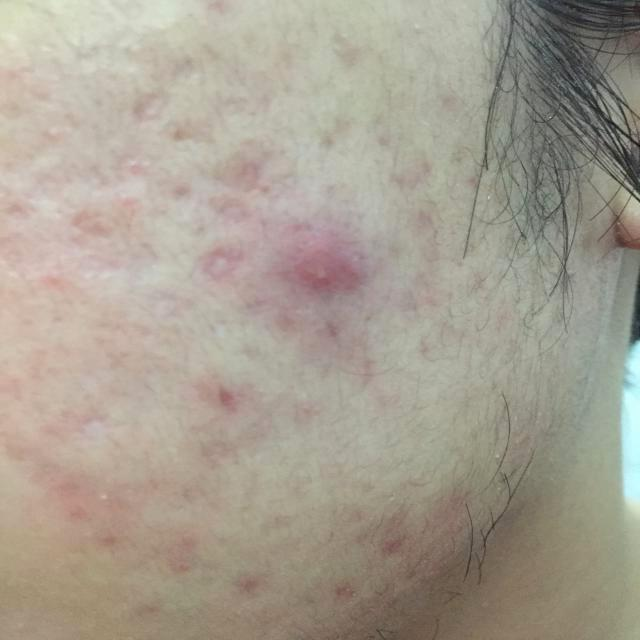Pimples: (276, 237, 366, 306)
